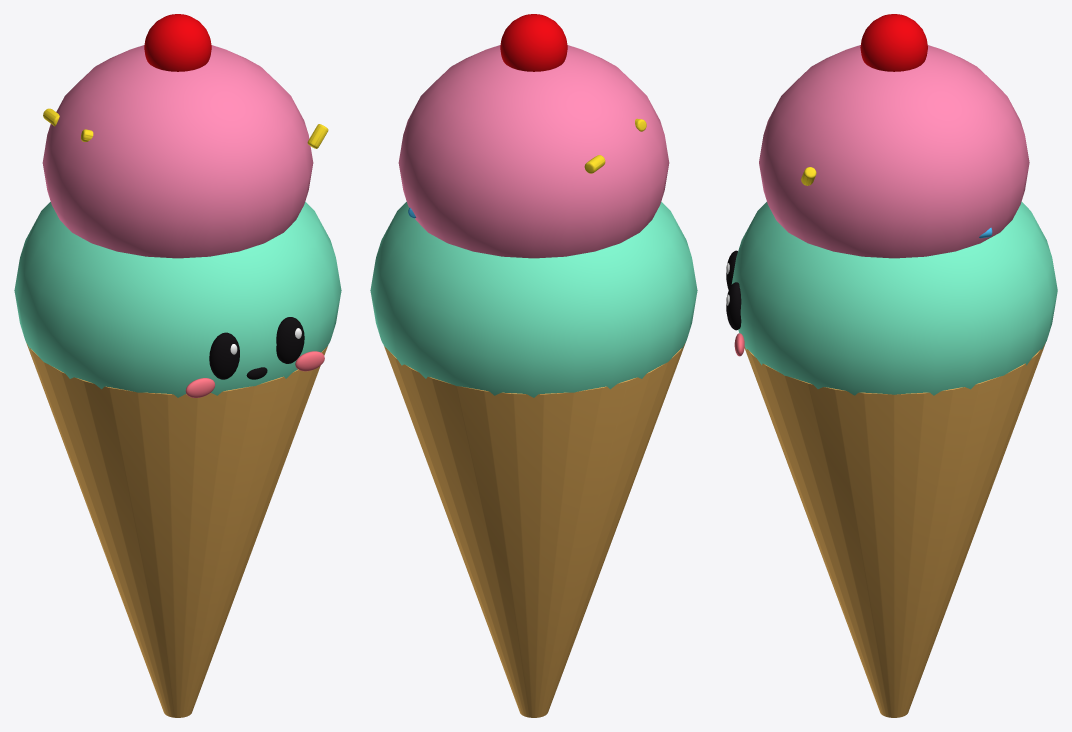
File: IceCream.glb
The picture shows the model from 3 angles, left to right: view 1: azimuth 30°, elevation 25°; view 2: azimuth 150°, elevation 25°; view 3: azimuth 270°, elevation 25°; orthographic projection.
Parts seen in each view (by area): view 1: Cone, Sphere.001, Sphere, Sphere.002, Sphere.003, Sphere.006; view 2: Cone, Sphere.001, Sphere, Sphere.002; view 3: Cone, Sphere.001, Sphere, Sphere.002, Sphere.006.
Part boxes in pixels (bbox=[...]): Cone: bbox=[26, 343, 327, 717]; Sphere.001: bbox=[42, 45, 313, 258]; Sphere: bbox=[14, 202, 341, 397]; Sphere.002: bbox=[144, 14, 211, 71]; Sphere.003: bbox=[209, 332, 239, 379]; Sphere.006: bbox=[276, 317, 304, 363]; Cone: bbox=[384, 343, 685, 717]; Sphere.001: bbox=[398, 45, 669, 258]; Sphere: bbox=[370, 202, 697, 397]; Sphere.002: bbox=[500, 14, 567, 71]; Cone: bbox=[744, 343, 1045, 717]; Sphere.001: bbox=[759, 45, 1029, 258]; Sphere: bbox=[731, 201, 1057, 395]; Sphere.002: bbox=[860, 14, 927, 71]; Sphere.006: bbox=[726, 282, 741, 330].
Size of the model in its own units: 1.16 by 2.72 by 1.18.
